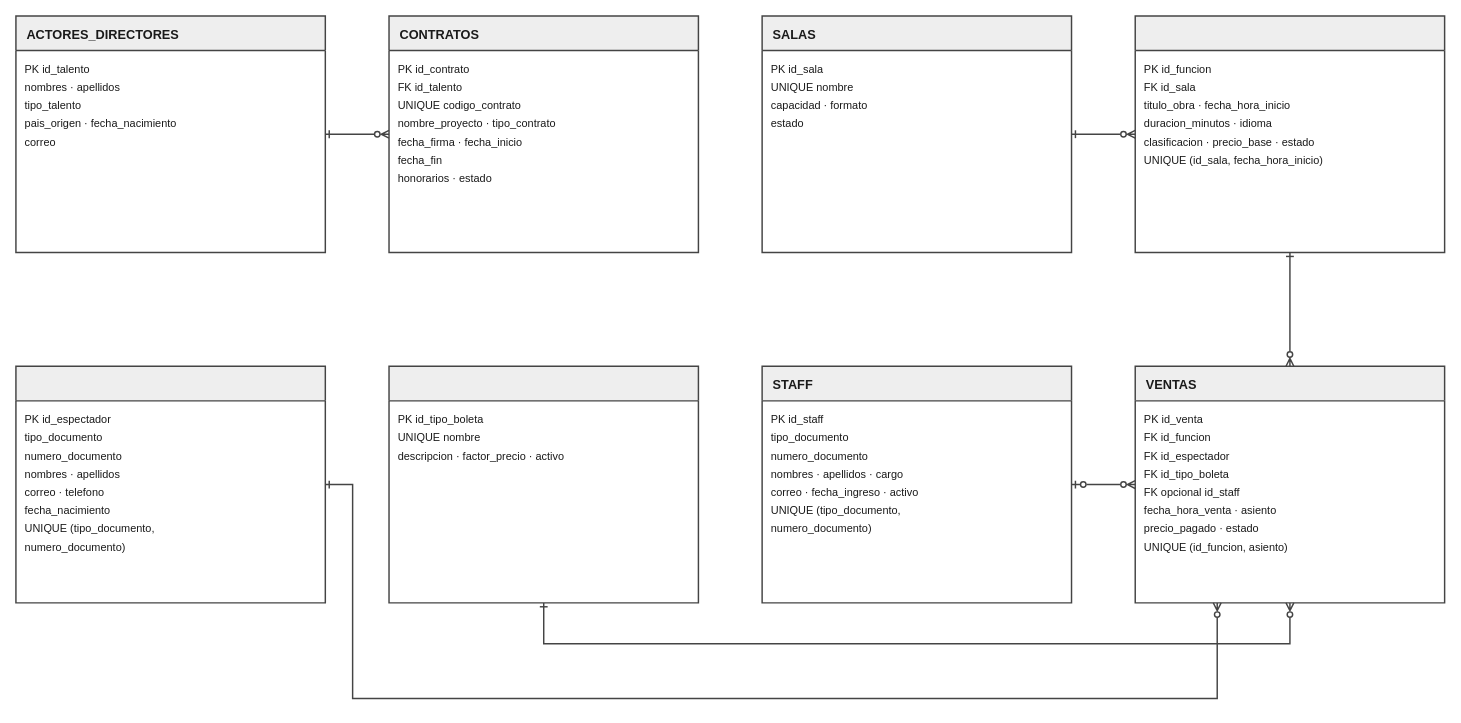
Image size: 1461x723. Some labels were removed from this diagram. The box of each missing label's shape, as (x1, y1, x2, y2) in pixels:
ESPECTADORES: (15, 365, 326, 603)
FUNCIONES: (1134, 15, 1445, 253)
TIPOS_BOLETA: (388, 365, 699, 603)
